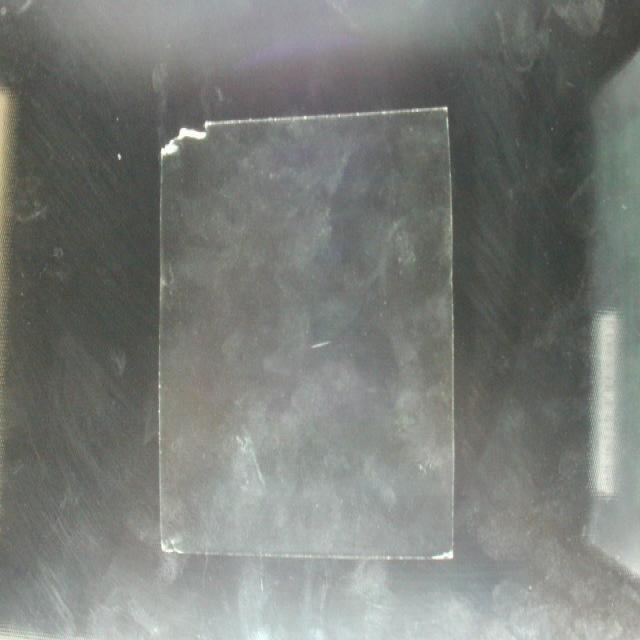edge_chip: (150, 108, 220, 175), (148, 515, 192, 577), (422, 533, 472, 572)
scratch: (304, 330, 338, 358)
